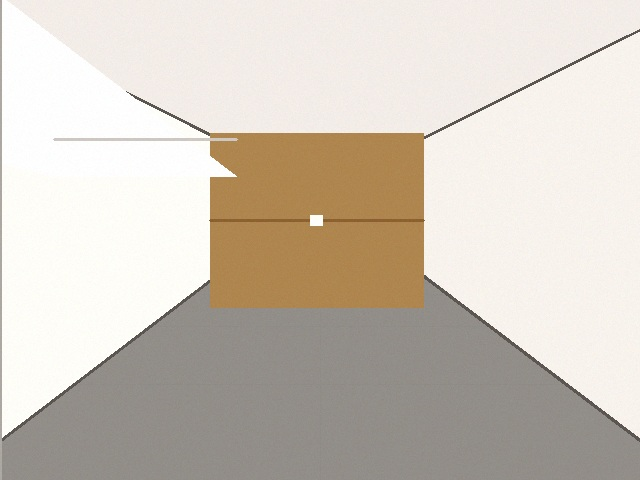box: (210, 133, 423, 307)
directional_sign: (286, 142, 384, 191)
hospital_bed: (0, 0, 236, 479)
